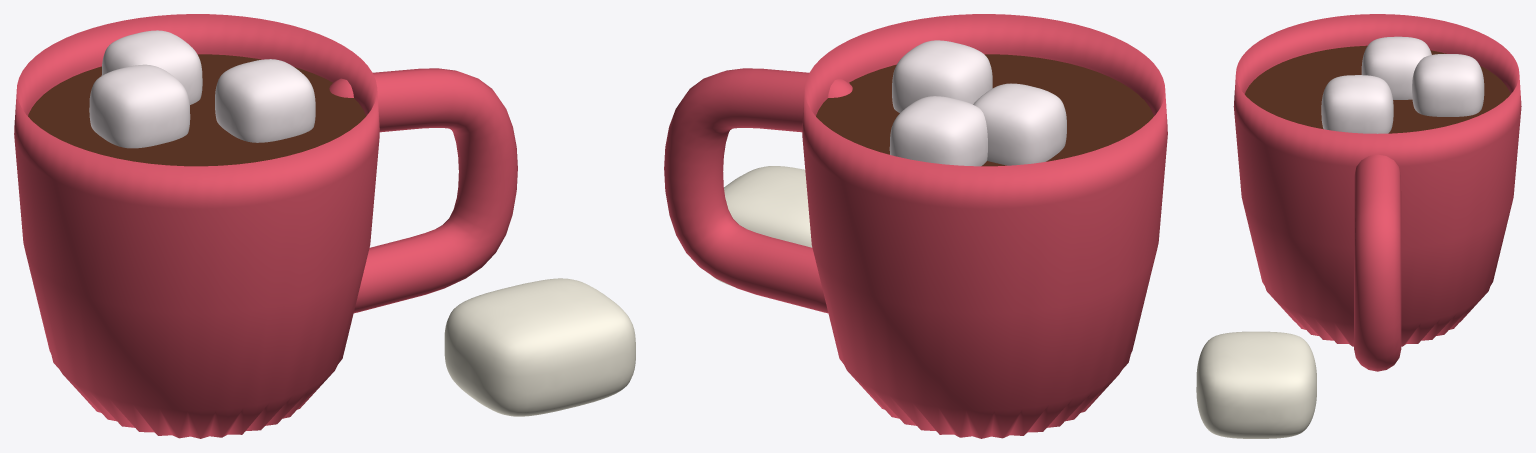
Rendered from comida_chocolate.glb.
The picture shows the model from 3 angles, left to right: view 1: azimuth 30°, elevation 25°; view 2: azimuth 150°, elevation 25°; view 3: azimuth 270°, elevation 25°; orthographic projection. The views are drawn at different scales.
Visible parts, largest first — view 1: taza.002, oreja taza.002, queso.003, chocolate.001, masmelo 0.001, masmelo 1.001, masmelo 2.001; view 2: taza.002, oreja taza.002, chocolate.001, masmelo 0.001, masmelo 2.001, queso.003, masmelo 1.001; view 3: taza.002, queso.003, oreja taza.002, chocolate.001, masmelo 2.001, masmelo 1.001, masmelo 0.001.
Boxes of the visible parts, x1,y1,x2,y2 form: taza.002: [14, 14, 379, 438]; oreja taza.002: [329, 68, 517, 313]; queso.003: [444, 278, 635, 416]; chocolate.001: [28, 54, 365, 166]; masmelo 0.001: [89, 64, 190, 148]; masmelo 1.001: [215, 59, 315, 142]; masmelo 2.001: [101, 30, 202, 104]; taza.002: [802, 14, 1167, 438]; oreja taza.002: [664, 68, 852, 313]; chocolate.001: [816, 54, 1153, 166]; masmelo 0.001: [973, 83, 1066, 165]; masmelo 2.001: [889, 96, 987, 166]; queso.003: [711, 166, 812, 286]; masmelo 1.001: [892, 40, 992, 112]; taza.002: [1233, 14, 1521, 346]; queso.003: [1196, 331, 1316, 438]; oreja taza.002: [1354, 154, 1401, 371]; chocolate.001: [1245, 45, 1510, 133]; masmelo 2.001: [1412, 54, 1484, 116]; masmelo 1.001: [1321, 75, 1393, 133]; masmelo 0.001: [1361, 36, 1431, 99].
Size of the model in its own units: 0.2263 by 0.1419 by 0.1614.
